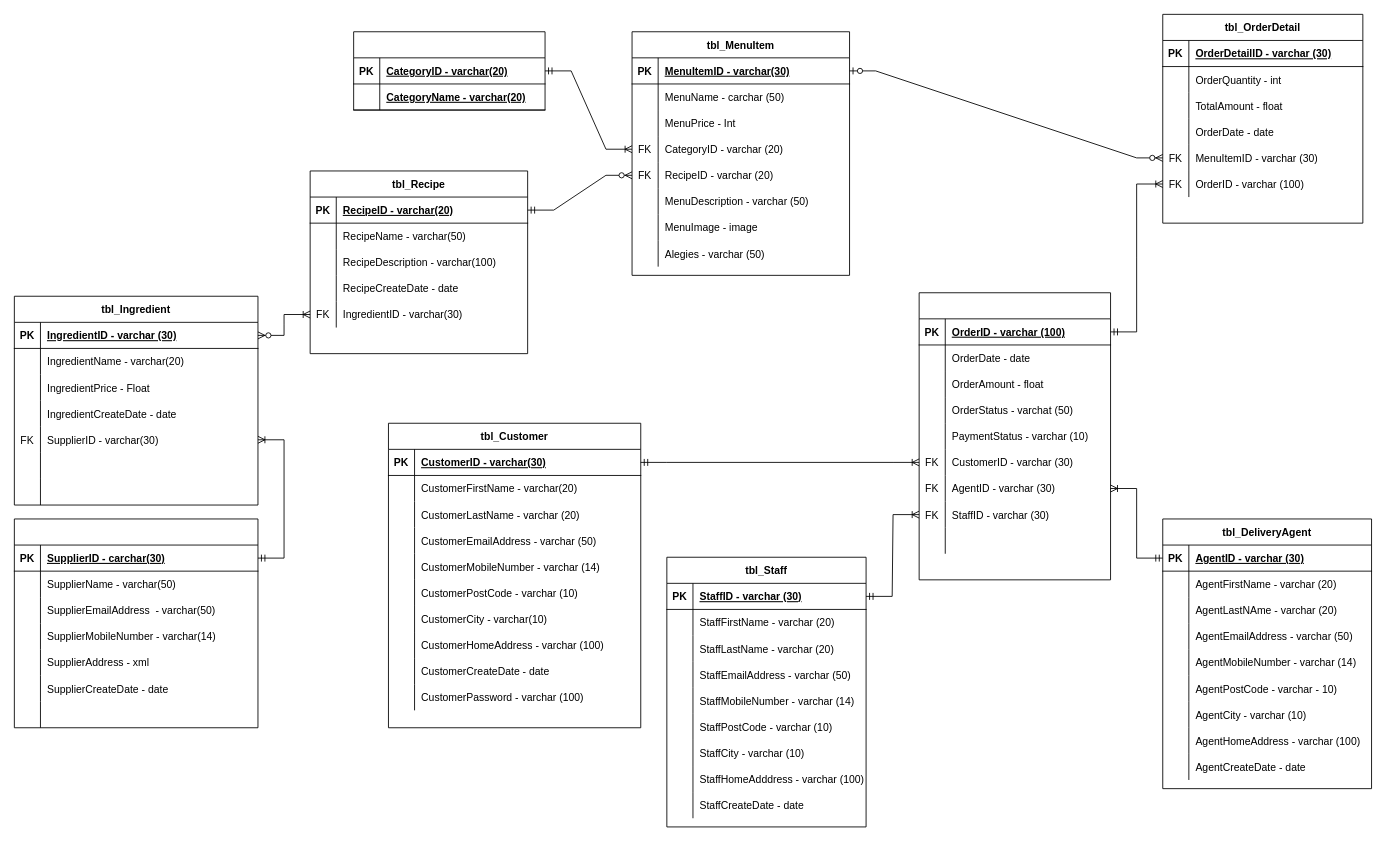
Some shapes in this 1386 by 841 pixel diagram are drawn without their labels. The box of each missing label's shape, as (x1, y1, x2, y2) in pixels:
tbl_Category: (353, 31, 545, 110)
tbl_Order: (918, 292, 1111, 580)
tbl_Supplier: (13, 518, 258, 728)
